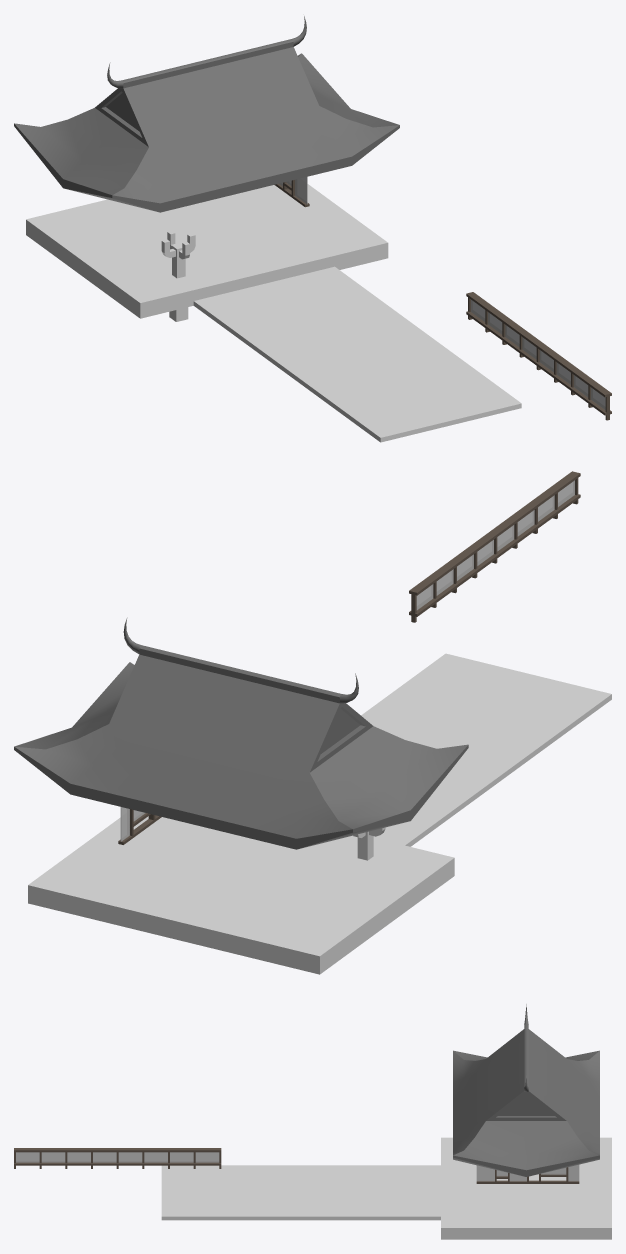
Rendered from smashed_temple.fbx.
The picture shows the model from 3 angles, top to bottom: view 1: azimuth 30°, elevation 25°; view 2: azimuth 150°, elevation 25°; view 3: azimuth 270°, elevation 25°; orthographic projection. The views are drawn at different scales.
Visible parts, largest first — view 1: Box004, Box001, Box009, Group001, Box008.001; view 2: Box004, Box001, Box009, Group001, Box008.001; view 3: Box004, Box009, Box001, Group001, Box008, Box008.001.
Boxes of the visible parts, <box> form: Box004: <box>14,16,399,212</box>; Box001: <box>26,184,388,318</box>; Box009: <box>193,266,521,442</box>; Group001: <box>161,231,611,420</box>; Box008.001: <box>274,177,308,207</box>; Box004: <box>14,617,468,849</box>; Box001: <box>28,816,454,974</box>; Box009: <box>361,653,611,846</box>; Group001: <box>353,471,580,860</box>; Box008.001: <box>118,807,161,844</box>; Box004: <box>453,1004,599,1176</box>; Box009: <box>161,1165,440,1220</box>; Box001: <box>441,1137,611,1239</box>; Group001: <box>14,1148,221,1168</box>; Box008: <box>476,1165,579,1183</box>; Box008.001: <box>476,1165,579,1181</box>.
Bounding box in the file's own units: 698 × 546 × 1680.
